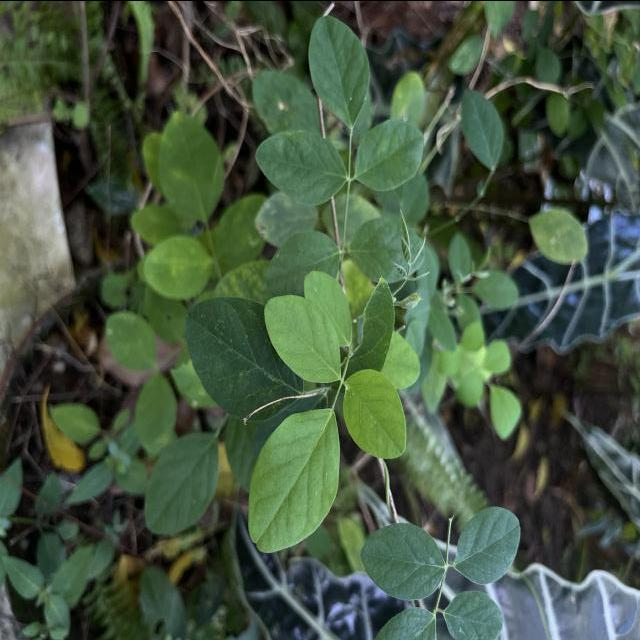Clitoria ternatea: (248, 407, 342, 552), (263, 293, 342, 383), (358, 520, 446, 600), (342, 367, 407, 459), (452, 504, 522, 585), (442, 589, 504, 640)
